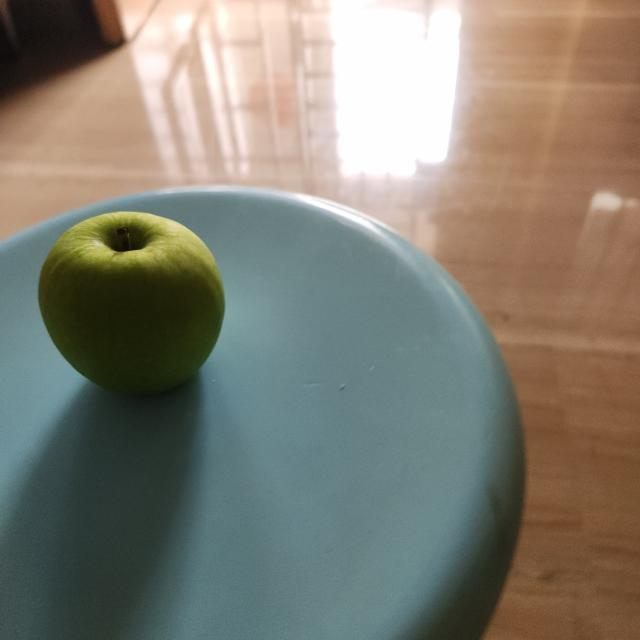apple: (28, 203, 234, 411)
